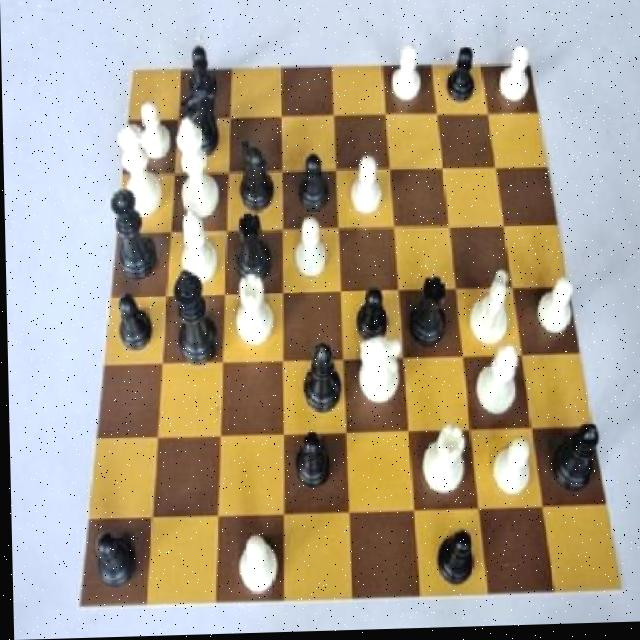bishop: (541, 418, 606, 502), (293, 338, 346, 422)
black-bishop: (103, 182, 160, 288)
black-king: (175, 75, 226, 164), (232, 137, 279, 219)
black-knight: (84, 519, 138, 600), (428, 520, 480, 591), (286, 426, 333, 501), (108, 284, 155, 355), (287, 150, 336, 218), (174, 43, 226, 106), (438, 41, 483, 112), (351, 282, 393, 348)
black-pawn: (164, 264, 222, 375)
black-queen: (400, 268, 453, 355), (226, 205, 271, 289)
black-rook: (466, 337, 526, 425), (171, 205, 217, 295)
white-bishop: (168, 109, 221, 225)
white-king: (463, 267, 522, 354), (347, 333, 403, 412)
white-knight: (226, 525, 283, 606), (480, 432, 535, 504), (528, 273, 580, 345), (343, 148, 389, 227), (289, 214, 335, 288), (490, 40, 536, 109), (386, 46, 430, 114), (132, 98, 174, 166)
white-pawn: (111, 119, 165, 226)
white-queen: (411, 420, 469, 508), (225, 270, 275, 353)
